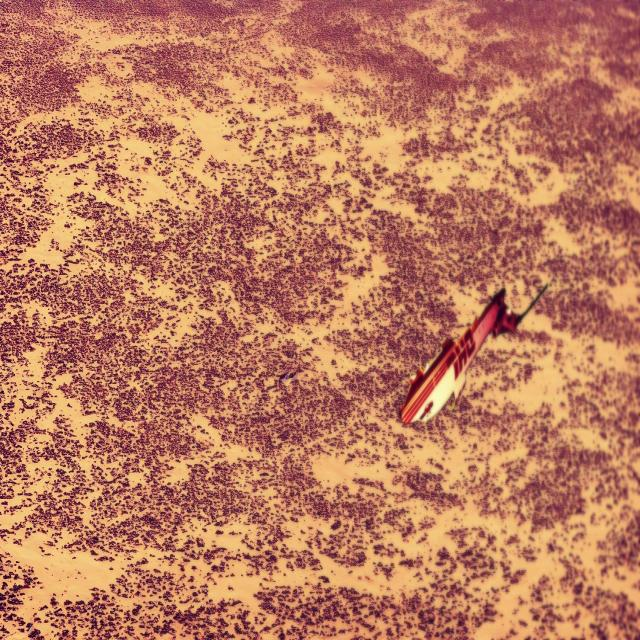airplane: (400, 282, 548, 426)
